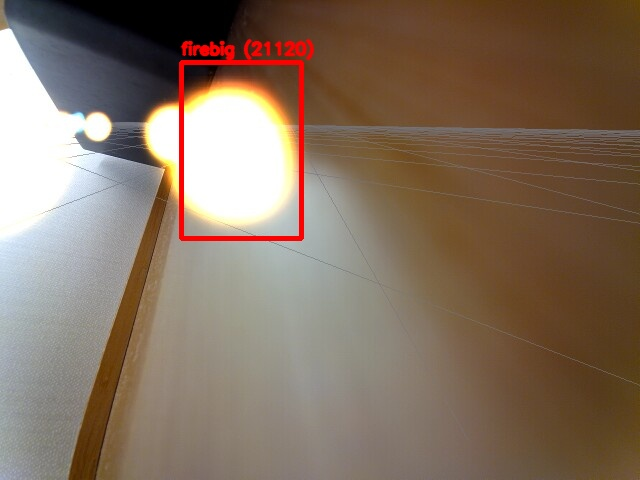firebig: (181, 62, 301, 238)
